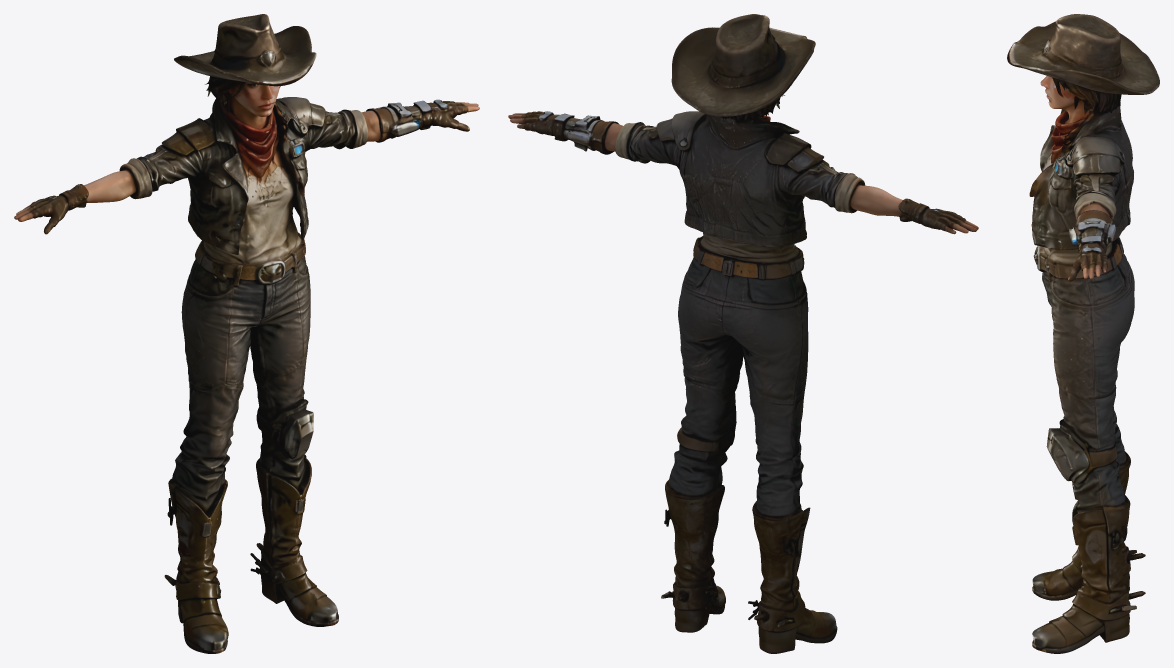
The model's file is testModel.glb.
3 views of the same model, side by side, from view 1: azimuth 30°, elevation 25°; view 2: azimuth 150°, elevation 25°; view 3: azimuth 270°, elevation 25° (orthographic).
Parts seen in each view (by area): view 1: model; view 2: model; view 3: model.
Part boxes in pixels (left/top/right/bottom): model: left=14, top=14, right=479, bottom=653; model: left=508, top=14, right=978, bottom=653; model: left=1007, top=14, right=1159, bottom=653.
Size of the model in its own units: 1.52 by 1.9 by 0.4378.
1 material, 1 textured.
